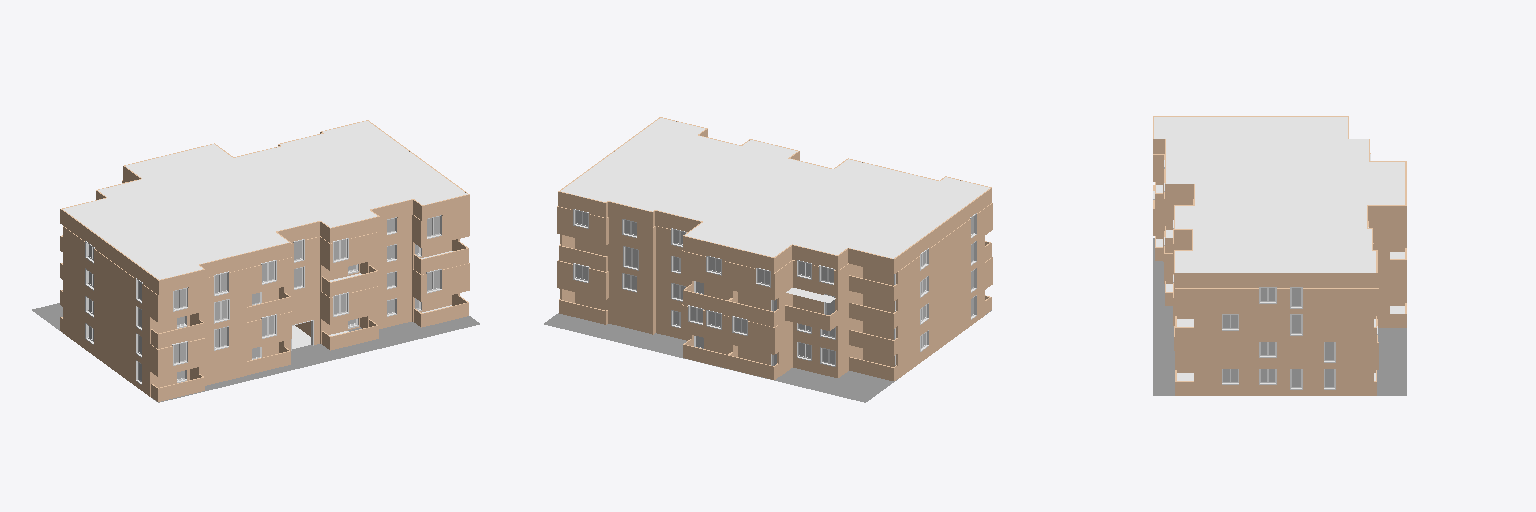
File: Building 2.obj
The picture shows the model from 3 angles: view 1: azimuth 30°, elevation 25°; view 2: azimuth 150°, elevation 25°; view 3: azimuth 270°, elevation 25°; orthographic projection.
Visible parts, largest first — view 1: room_426_2013, ground_1, wall_144_815, wall_75_425, wall_288_1631, wall_1_5, wall_289_1637, wall_292_1655, wall_27_149, wall_138_779, wall_261_1469, wall_135_761 (+26 smaller); view 2: room_426_2013, ground_1, wall_75_425, wall_288_1631, wall_144_815, wall_1_5, wall_289_1637, wall_17_100, wall_246_1378, wall_125_700, wall_257_1444, wall_141_796 (+28 smaller); view 3: room_426_2013, ground_1, wall_158_898, wall_88_502, wall_263_1480, wall_15_88, wall_301_1709, wall_262_1475, wall_307_1745, wall_139_785.
Boxes of the visible parts, x1=… form: room_426_2013: x1=63, y1=121, x2=467, y2=279; ground_1: x1=32, y1=303, x2=479, y2=402; wall_144_815: x1=63, y1=254, x2=151, y2=343; wall_75_425: x1=63, y1=281, x2=149, y2=370; wall_288_1631: x1=63, y1=227, x2=149, y2=316; wall_1_5: x1=63, y1=308, x2=151, y2=396; wall_289_1637: x1=64, y1=212, x2=158, y2=294; wall_292_1655: x1=200, y1=243, x2=290, y2=277; wall_27_149: x1=201, y1=350, x2=246, y2=385; wall_138_779: x1=421, y1=263, x2=469, y2=301; wall_261_1469: x1=421, y1=210, x2=469, y2=247; wall_135_761: x1=330, y1=286, x2=378, y2=324; room_426_2013: x1=561, y1=118, x2=989, y2=258; ground_1: x1=544, y1=310, x2=991, y2=402; wall_75_425: x1=897, y1=263, x2=984, y2=352; wall_288_1631: x1=897, y1=209, x2=984, y2=298; wall_144_815: x1=897, y1=236, x2=984, y2=325; wall_1_5: x1=897, y1=290, x2=984, y2=378; wall_289_1637: x1=898, y1=188, x2=991, y2=270; wall_17_100: x1=609, y1=298, x2=650, y2=333; wall_246_1378: x1=727, y1=262, x2=774, y2=300; wall_125_700: x1=727, y1=316, x2=774, y2=354; wall_257_1444: x1=560, y1=207, x2=605, y2=244; wall_141_796: x1=560, y1=262, x2=605, y2=299; room_426_2013: x1=1154, y1=117, x2=1404, y2=272; ground_1: x1=1153, y1=238, x2=1406, y2=395; wall_158_898: x1=1194, y1=316, x2=1373, y2=342; wall_88_502: x1=1194, y1=343, x2=1373, y2=369; wall_263_1480: x1=1194, y1=289, x2=1373, y2=315; wall_15_88: x1=1194, y1=370, x2=1373, y2=395; wall_301_1709: x1=1174, y1=273, x2=1377, y2=287; wall_262_1475: x1=1175, y1=289, x2=1197, y2=315; wall_307_1745: x1=1368, y1=206, x2=1406, y2=220; wall_139_785: x1=1175, y1=343, x2=1197, y2=369.
Bounding box in the file's own units: 2763 × 998 × 1886.